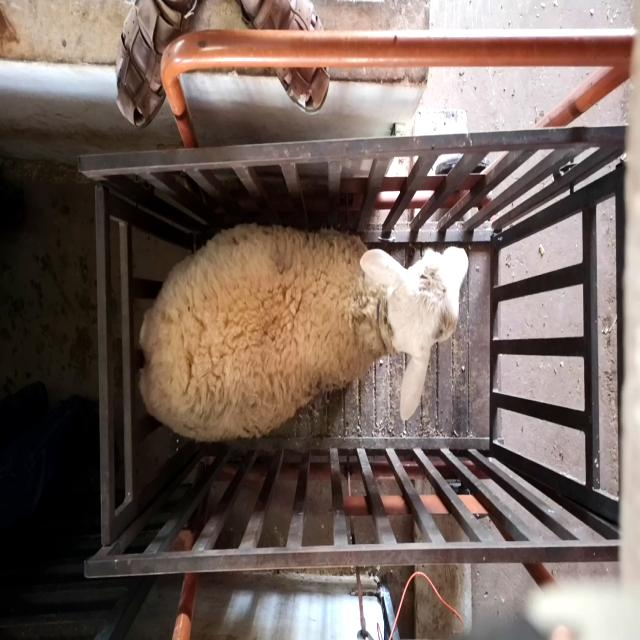sheep: (138, 223, 469, 441)
